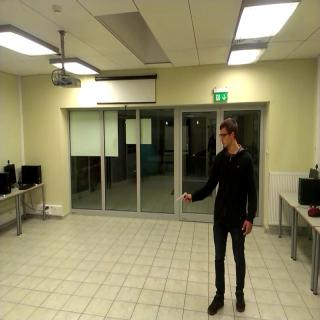gun: (174, 187, 192, 205)
